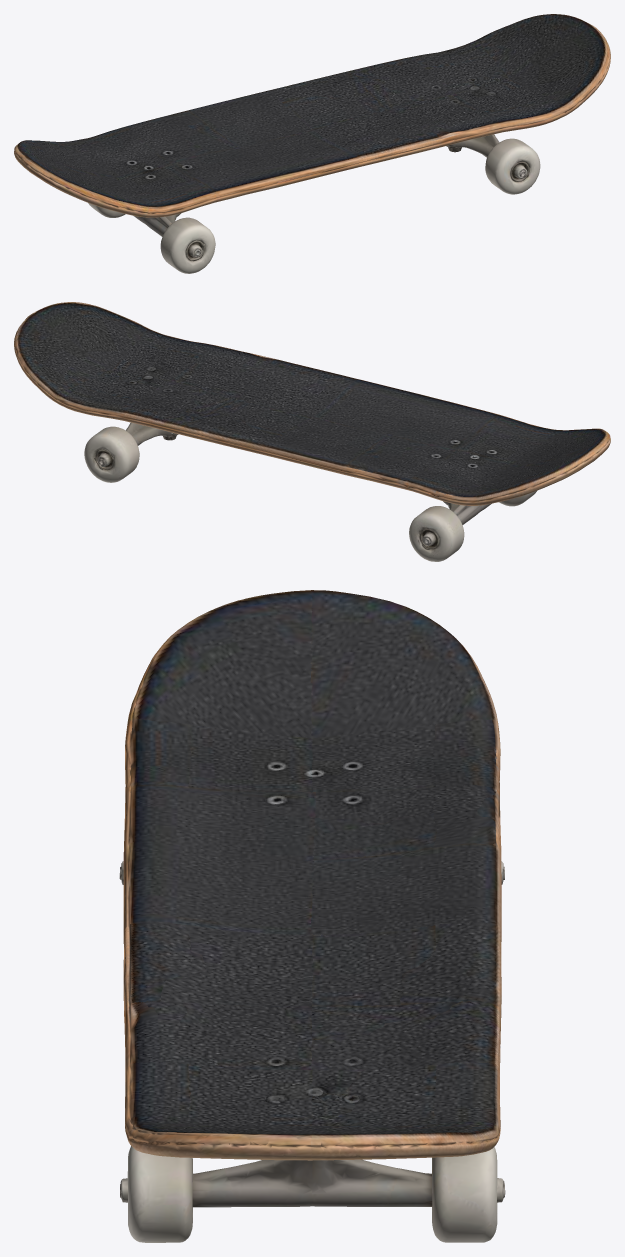
File: skateboard3d_black.glb
3 views of the same model, one above another, from view 1: azimuth 30°, elevation 25°; view 2: azimuth 150°, elevation 25°; view 3: azimuth 270°, elevation 25° (orthographic). The views are drawn at different scales.
Visible parts, largest first — view 1: board; view 2: board; view 3: board.
Boxes of the visible parts, x1,y1,x2,y2 form: board: [14, 14, 610, 273]; board: [14, 302, 610, 561]; board: [119, 590, 505, 1242].
Bounding box in the file's own units: 0.9798 × 0.1789 × 0.2882.
Materials: 1 (1 with a texture image).
